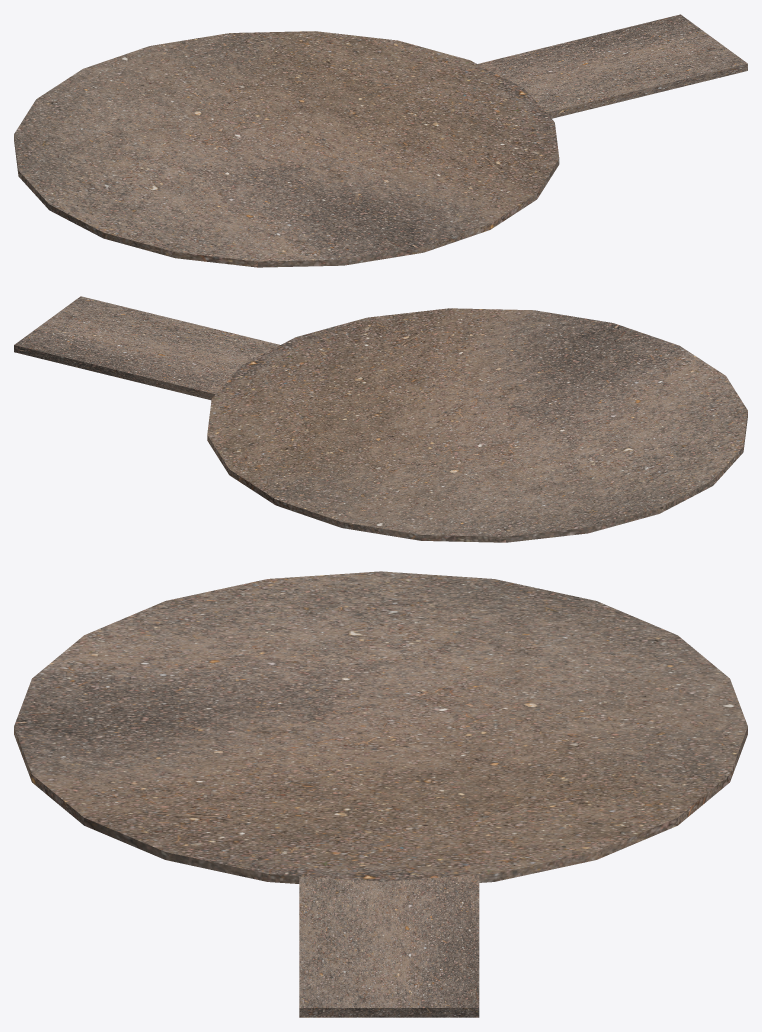
File: tierra.obj
3 views of the same model, one above another, from view 1: azimuth 30°, elevation 25°; view 2: azimuth 150°, elevation 25°; view 3: azimuth 270°, elevation 25° (orthographic). The views are drawn at different scales.
Visible parts, largest first — view 1: polySurface84 pCylinder12, pCylinder12 polySurface85; view 2: polySurface84 pCylinder12, pCylinder12 polySurface85; view 3: polySurface84 pCylinder12, pCylinder12 polySurface85.
Boxes of the visible parts, <box> form: polySurface84 pCylinder12: <box>14,31,559,267</box>; pCylinder12 polySurface85: <box>478,14,747,118</box>; polySurface84 pCylinder12: <box>207,308,747,542</box>; pCylinder12 polySurface85: <box>14,296,279,400</box>; polySurface84 pCylinder12: <box>14,571,747,883</box>; pCylinder12 polySurface85: <box>299,875,479,1017</box>.
Bounding box in the file's own units: 19.3 × 0.2 × 13.71.
Materials: 1 (1 with a texture image).
